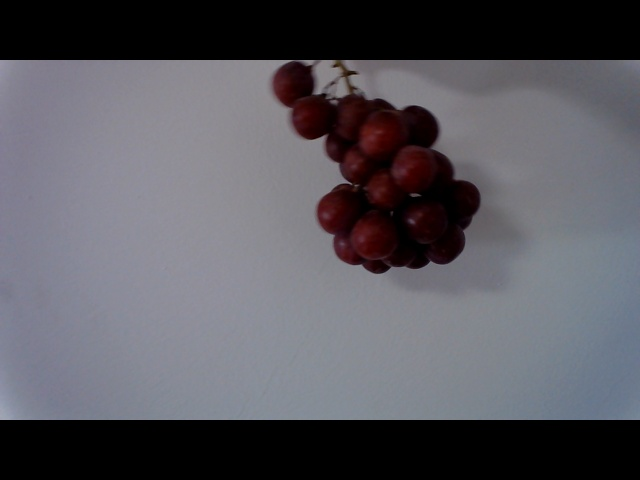grape: (274, 66, 485, 283)
